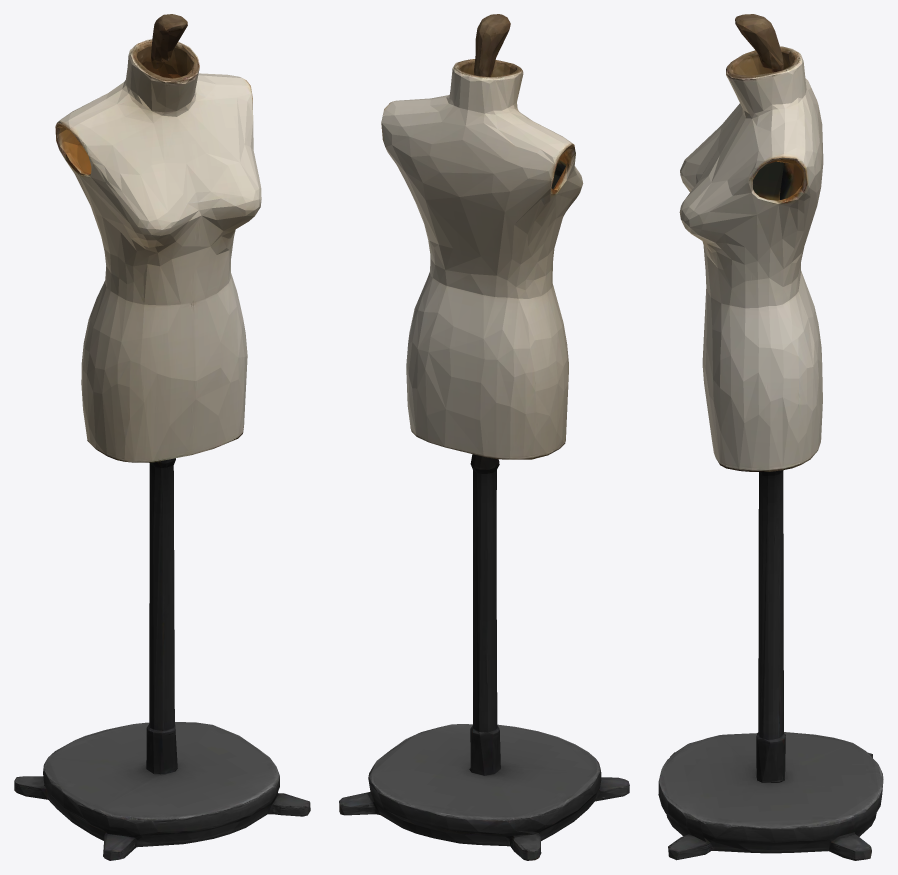
3 views of the same model, side by side, from view 1: azimuth 30°, elevation 25°; view 2: azimuth 150°, elevation 25°; view 3: azimuth 270°, elevation 25° (orthographic). The views are drawn at different scales.
Parts seen in each view (by area): view 1: geometry_0; view 2: geometry_0; view 3: geometry_0.
Boxes of the visible parts, bbox=[...] form: geometry_0: bbox=[14, 14, 310, 860]; geometry_0: bbox=[339, 14, 629, 860]; geometry_0: bbox=[658, 14, 883, 860].
Bounding box in the file's own units: 0.2722 × 1 × 0.257.
Materials: 1 (1 with a texture image).
